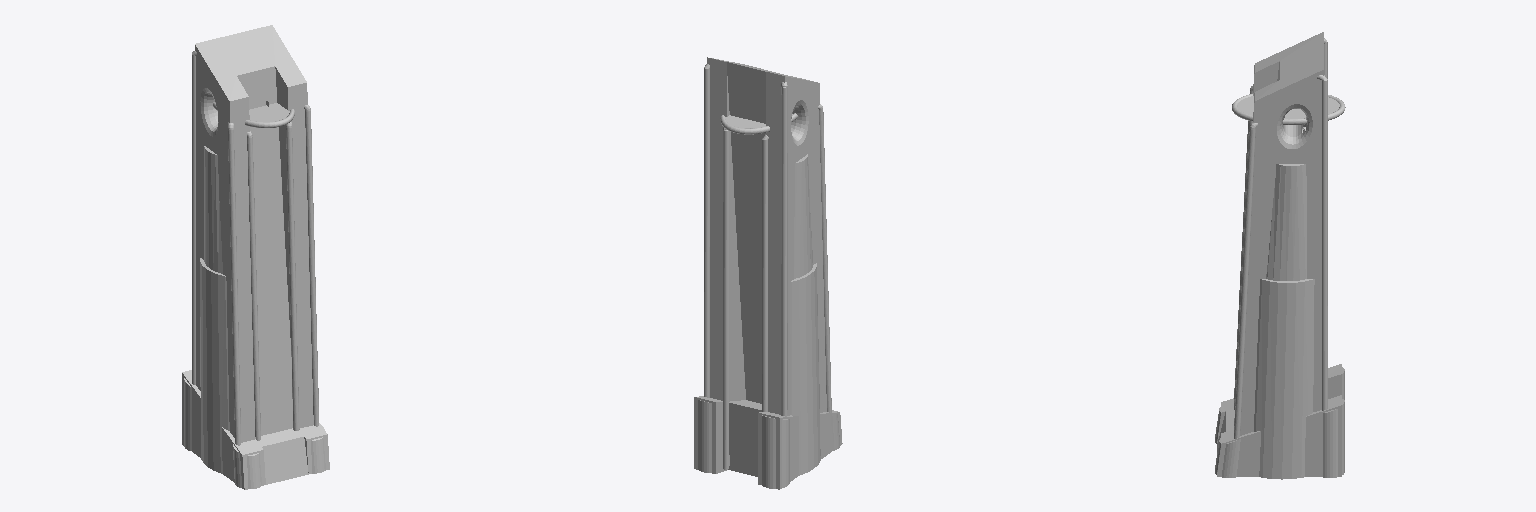
The model's file is DTower.obj.
The picture shows the model from 3 angles: view 1: azimuth 30°, elevation 25°; view 2: azimuth 150°, elevation 25°; view 3: azimuth 270°, elevation 25°; orthographic projection.
Visible parts, largest first — view 1: Main_Building_Cube.002, Siding.001_Cylinder.004, Cube_Cube.006, Corner_Tube.002_Mesh.004, Corner_Tube.005_Mesh.008, Upper_Siding.001_Cylinder.005, Corner_Tube.001_Mesh.002, Corner_Tube.004_Mesh.007, Corner_Tube_Mesh.012, Cylinder.003_Cylinder.010, Cylinder.001_Cylinder.008; view 2: Main_Building_Cube.002, Cube_Cube.006, Siding.001_Cylinder.004, Corner_Tube_Mesh.012, Path_for_Tube.003_Mesh.010, Corner_Tube.003_Mesh.013, Upper_Siding.001_Cylinder.005, Path_for_Tube.004_Mesh.011, Cylinder.001_Cylinder.008, Corner_Tube.002_Mesh.004, Cylinder_Cylinder.007; view 3: Main_Building_Cube.002, Siding_Cylinder.003, Upper_Siding_Cylinder.006, Cube_Cube.006, Corner_Tube.003_Mesh.013, Corner_Tube.001_Mesh.002, Cylinder_Cylinder.007, Cylinder.002_Cylinder.009, View_deck_1_Mesh.
Boxes of the visible parts, x1=… form: Main_Building_Cube.002: x1=195, y1=25, x2=313, y2=442; Siding.001_Cylinder.004: x1=200, y1=258, x2=229, y2=473; Cube_Cube.006: x1=182, y1=370, x2=329, y2=489; Corner_Tube.002_Mesh.004: x1=228, y1=122, x2=240, y2=445; Corner_Tube.005_Mesh.008: x1=286, y1=122, x2=299, y2=430; Upper_Siding.001_Cylinder.005: x1=204, y1=146, x2=222, y2=273; Corner_Tube.001_Mesh.002: x1=304, y1=105, x2=318, y2=426; Corner_Tube.004_Mesh.007: x1=247, y1=131, x2=260, y2=440; Corner_Tube_Mesh.012: x1=192, y1=51, x2=196, y2=384; Cylinder.003_Cylinder.010: x1=233, y1=444, x2=261, y2=488; Cylinder.001_Cylinder.008: x1=184, y1=378, x2=191, y2=450; Main_Building_Cube.002: x1=707, y1=57, x2=826, y2=465; Cube_Cube.006: x1=694, y1=396, x2=842, y2=489; Siding.001_Cylinder.004: x1=790, y1=263, x2=820, y2=475; Corner_Tube_Mesh.012: x1=781, y1=87, x2=787, y2=416; Path_for_Tube.003_Mesh.010: x1=723, y1=130, x2=728, y2=469; Corner_Tube.003_Mesh.013: x1=704, y1=64, x2=709, y2=397; Upper_Siding.001_Cylinder.005: x1=794, y1=154, x2=812, y2=278; Path_for_Tube.004_Mesh.011: x1=762, y1=134, x2=768, y2=411; Cylinder.001_Cylinder.008: x1=762, y1=415, x2=789, y2=488; Corner_Tube.002_Mesh.004: x1=818, y1=104, x2=831, y2=412; Cylinder_Cylinder.007: x1=698, y1=400, x2=711, y2=472; Main_Building_Cube.002: x1=1240, y1=32, x2=1323, y2=435; Siding_Cylinder.003: x1=1254, y1=279, x2=1314, y2=479; Upper_Siding_Cylinder.006: x1=1266, y1=164, x2=1306, y2=280; Cube_Cube.006: x1=1217, y1=364, x2=1341, y2=476; Corner_Tube.003_Mesh.013: x1=1317, y1=75, x2=1327, y2=410; Corner_Tube.001_Mesh.002: x1=1234, y1=123, x2=1257, y2=438; Cylinder_Cylinder.007: x1=1323, y1=399, x2=1344, y2=477; Cylinder.002_Cylinder.009: x1=1215, y1=438, x2=1240, y2=477; View_deck_1_Mesh: x1=1232, y1=94, x2=1345, y2=124.
Size of the model in its own units: 2.43 by 10.12 by 2.93.